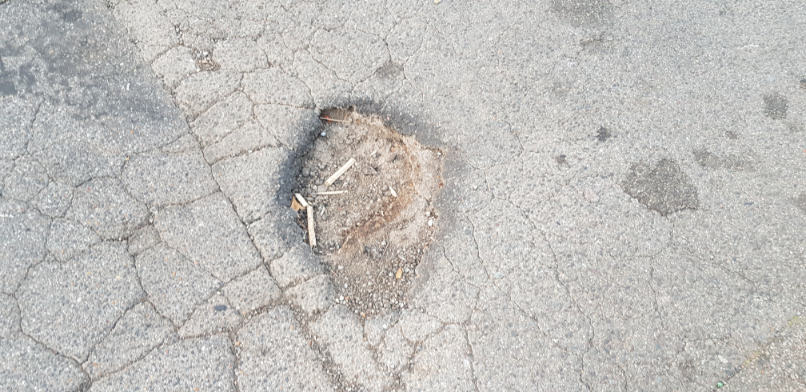pothole: (274, 94, 459, 324)
